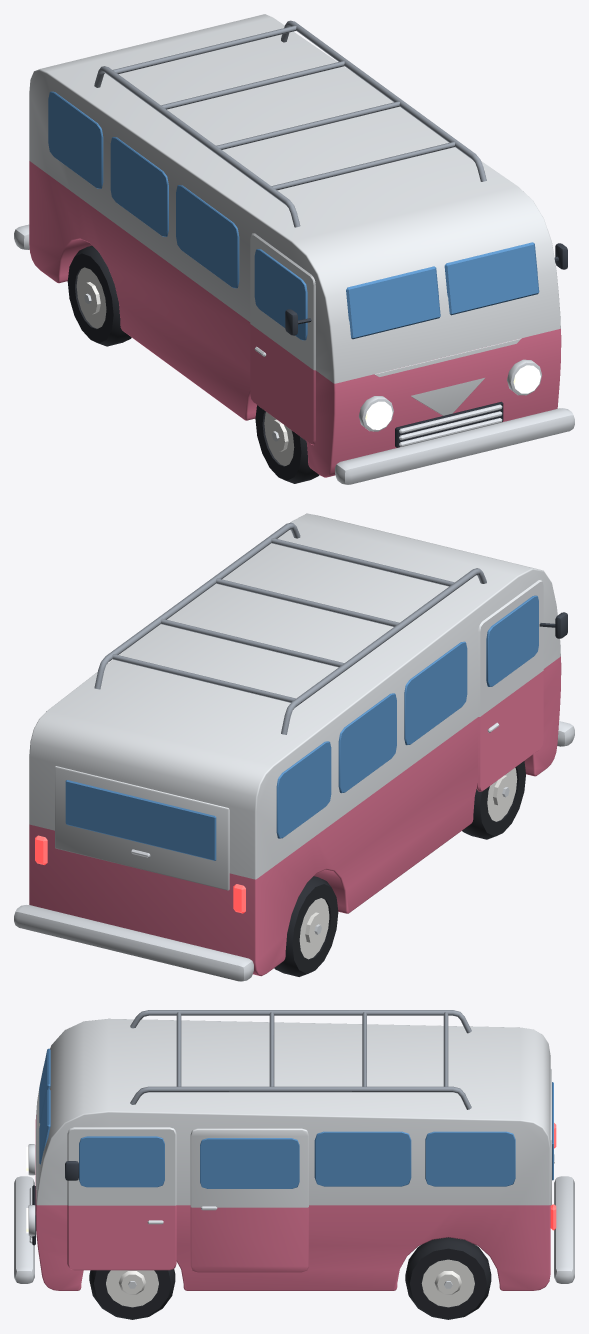
File: kombi_rosa.glb
3 views of the same model, one above another, from view 1: azimuth 30°, elevation 25°; view 2: azimuth 150°, elevation 25°; view 3: azimuth 270°, elevation 25° (orthographic). The views are drawn at different scales.
Parts seen in each view (by area): view 1: kombi_rosa, porta_1, roda_2, roda_1; view 2: kombi_rosa, tampa_1, porta_1, roda_2, roda_1; view 3: kombi_rosa, porta_correr, porta_2, roda_4, roda_3, tampa_1.
Part boxes in pixels (x1=…): kombi_rosa: x1=14, y1=14, x2=574, y2=484; porta_1: x1=250, y1=233, x2=315, y2=445; roda_2: x1=67, y1=245, x2=131, y2=346; roda_1: x1=255, y1=405, x2=319, y2=483; kombi_rosa: x1=14, y1=513, x2=574, y2=981; tampa_1: x1=55, y1=766, x2=229, y2=890; porta_1: x1=476, y1=580, x2=543, y2=791; roda_2: x1=274, y1=876, x2=338, y2=976; roda_1: x1=462, y1=761, x2=525, y2=839; kombi_rosa: x1=14, y1=1010, x2=574, y2=1290; porta_correr: x1=190, y1=1128, x2=308, y2=1272; porta_2: x1=67, y1=1127, x2=176, y2=1270; roda_4: x1=405, y1=1237, x2=491, y2=1319; roda_3: x1=89, y1=1269, x2=175, y2=1319; tampa_1: x1=550, y1=1069, x2=554, y2=1205.
Bounding box in the file's own units: 2.32 × 2.16 × 4.83.
Materials: 4 (1 with a texture image).
